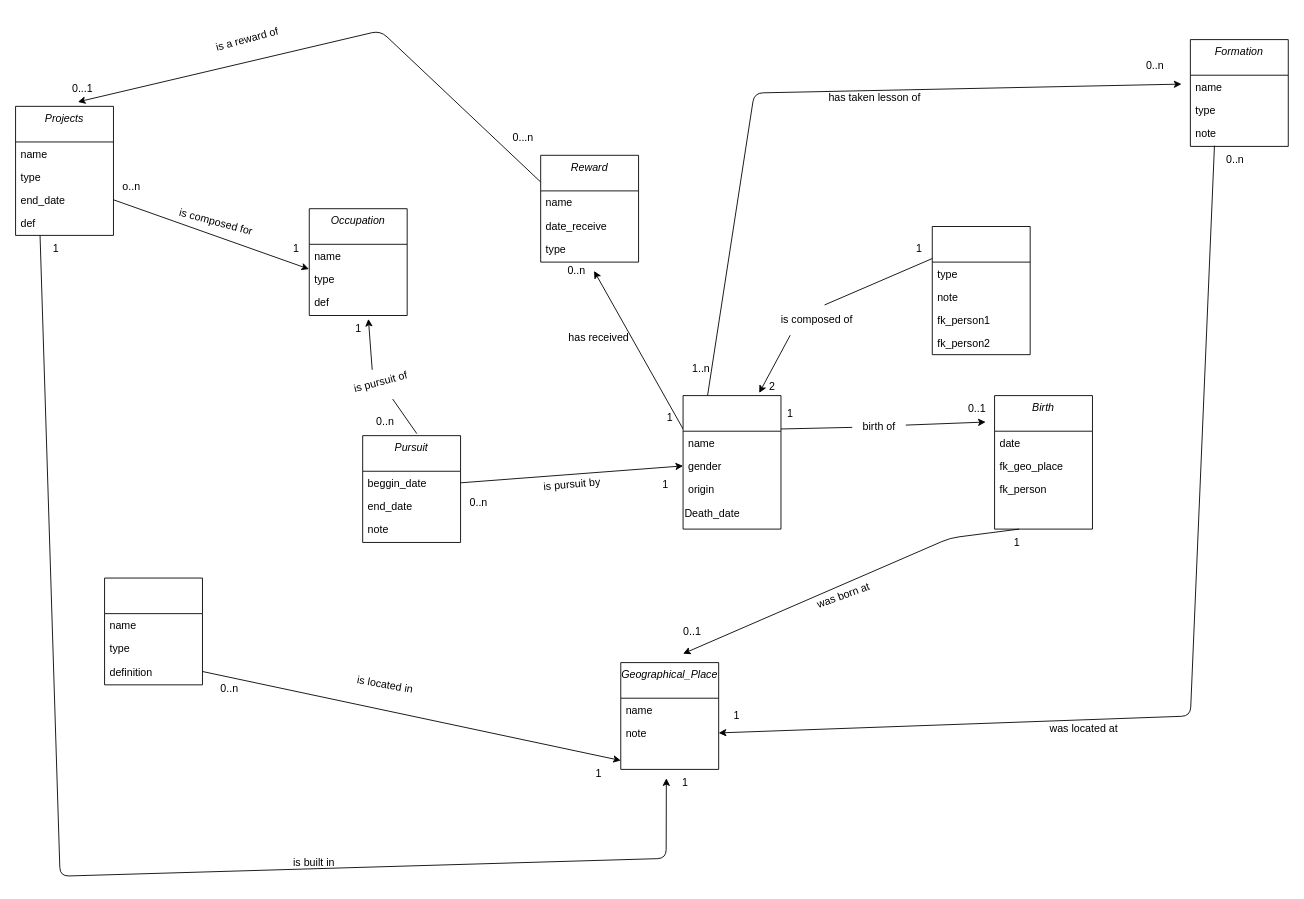
The diagram is 1304 pixels wide and 899 high, and some of its shapes have lost their labels. The box of each missing label's shape, as (x1, y1, x2, y2) in pixels:
Organisation: (104, 577, 202, 685)
Person: (682, 395, 781, 529)
Relationship: (931, 226, 1030, 355)
